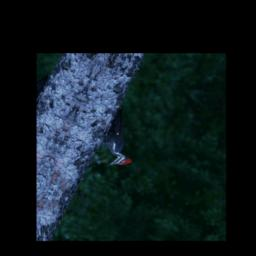Woodpecker: (89, 103, 153, 176)
